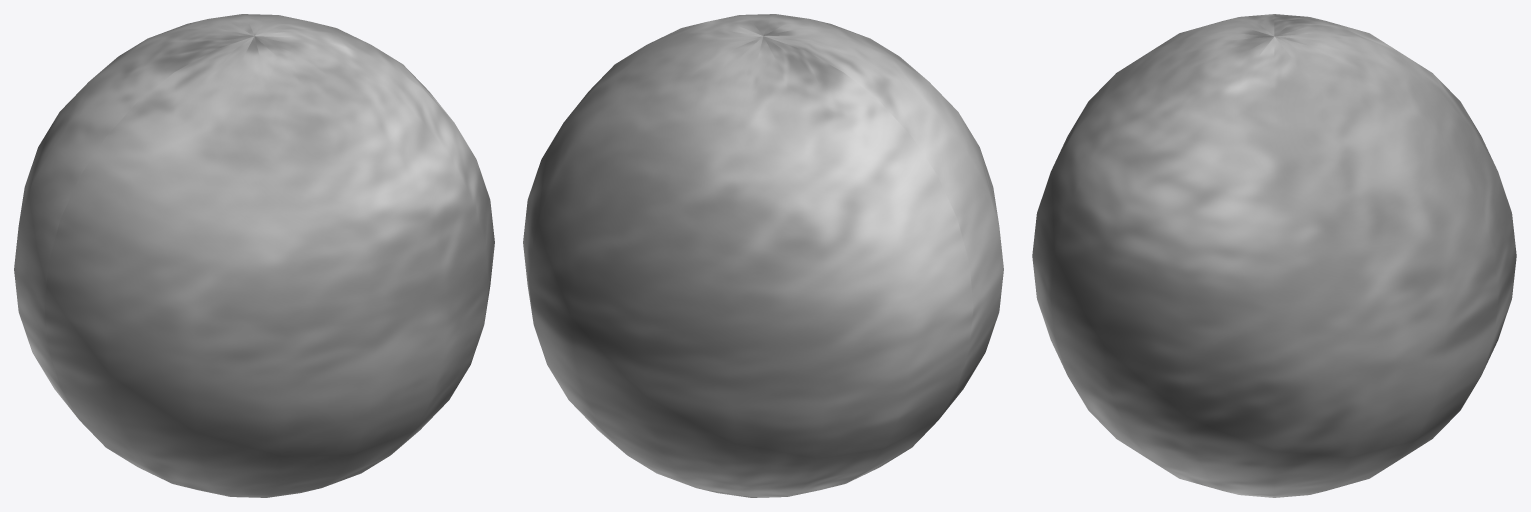
Rendered from orb.obj.
3 views of the same model, side by side, from view 1: azimuth 30°, elevation 25°; view 2: azimuth 150°, elevation 25°; view 3: azimuth 270°, elevation 25° (orthographic).
Visible parts, largest first — view 1: Sphere.003; view 2: Sphere.003; view 3: Sphere.003.
Boxes of the visible parts, <box> form: Sphere.003: <box>14,14,494,497</box>; Sphere.003: <box>523,14,1003,497</box>; Sphere.003: <box>1032,14,1516,497</box>.
Bounding box in the file's own units: 143 × 143 × 143.
